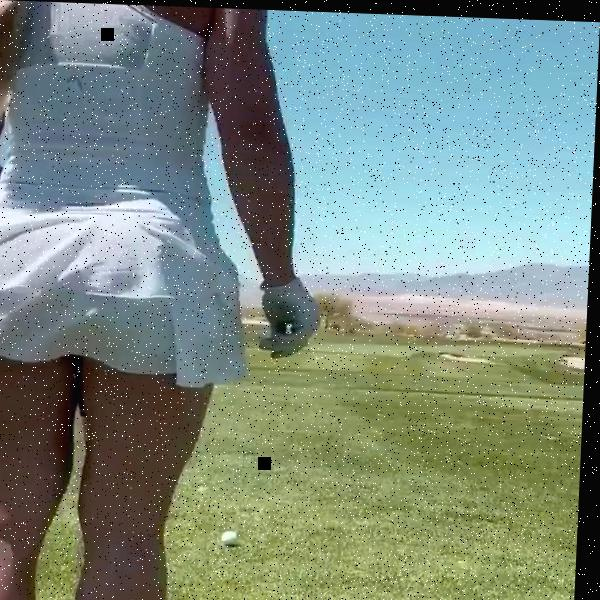GolfBall: (225, 529, 243, 543)
